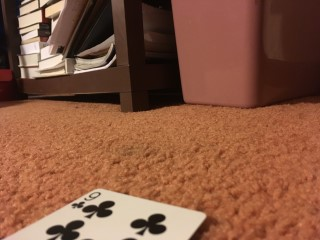NineOfClubs: (2, 189, 207, 240)
